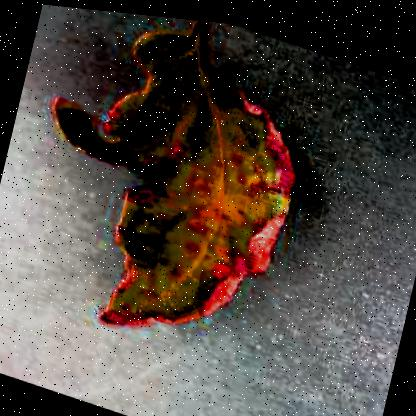BACTERIAL SPOT: (3, 0, 332, 384)
